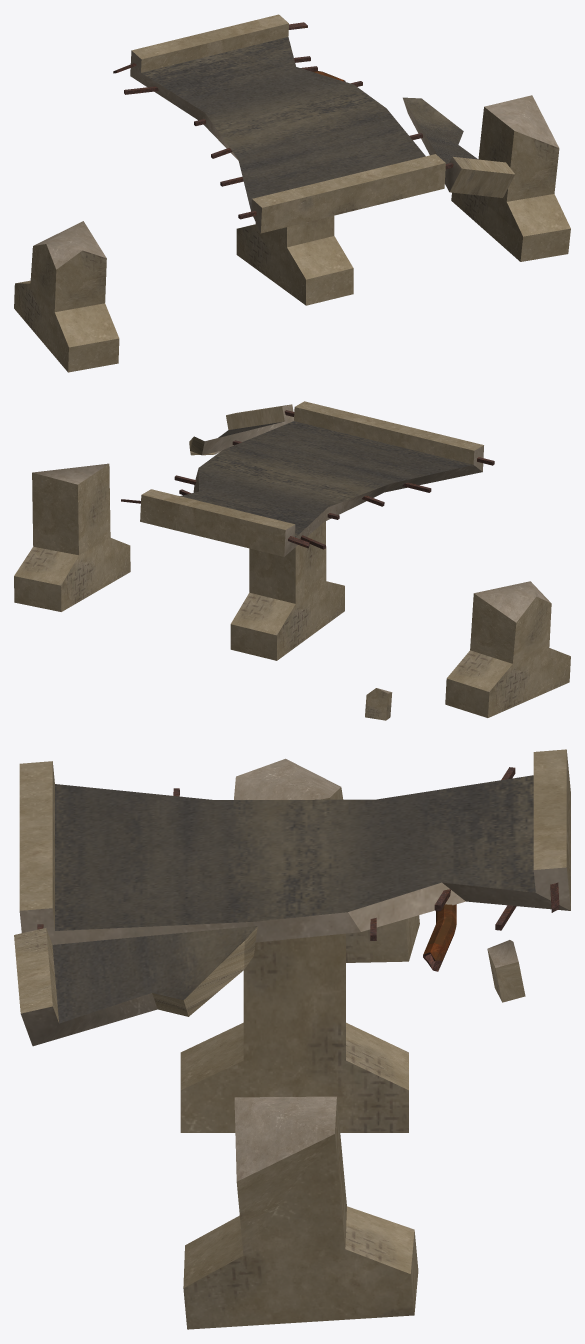
The model's file is SM_Ruin_Bridge.FBX.
3 renders of one model, top to bottom at view 1: azimuth 30°, elevation 25°; view 2: azimuth 150°, elevation 25°; view 3: azimuth 270°, elevation 25°, orthographic. The views are drawn at different scales.
Visible parts, largest first — view 1: SM_Ruin_Bridge; view 2: SM_Ruin_Bridge; view 3: SM_Ruin_Bridge.
Boxes of the visible parts, x1,y1,x2,y2 form: SM_Ruin_Bridge: (14, 14, 570, 372); SM_Ruin_Bridge: (14, 401, 570, 720); SM_Ruin_Bridge: (14, 749, 570, 1329).
Size of the model in its own units: 891 by 517 by 331.
